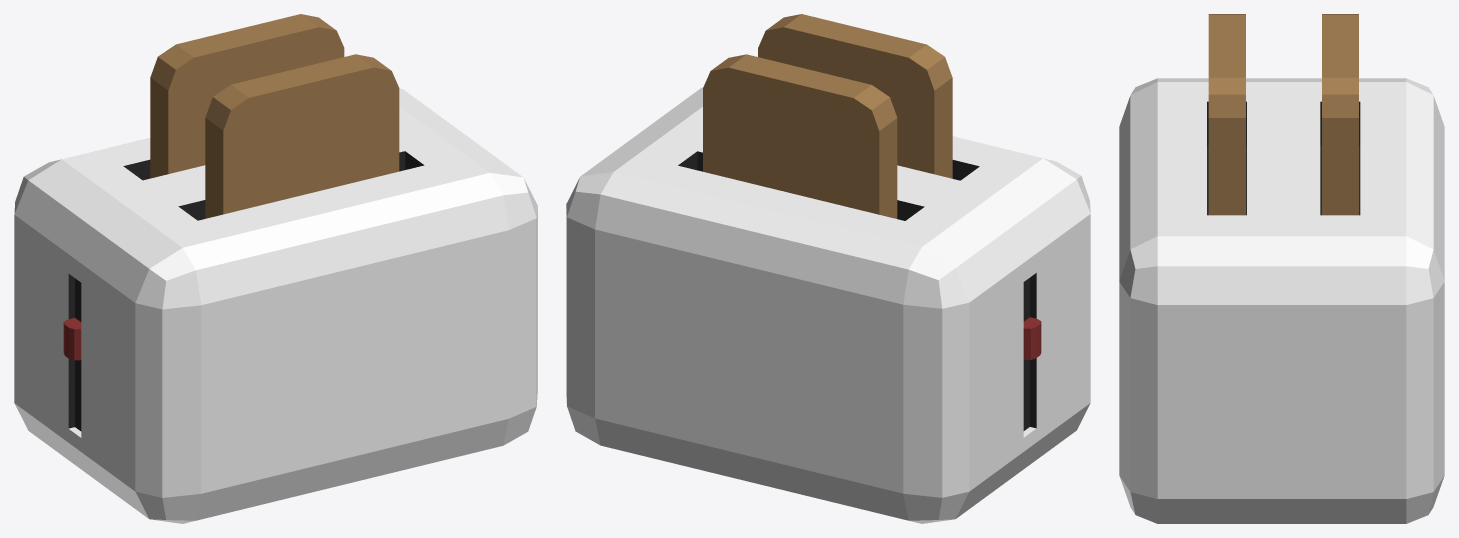
The model's file is Toast Maker.fbx.
3 renders of one model, left to right at view 1: azimuth 30°, elevation 25°; view 2: azimuth 150°, elevation 25°; view 3: azimuth 270°, elevation 25°, orthographic. The views are drawn at different scales.
Parts seen in each view (by area): view 1: Toast Maker; view 2: Toast Maker; view 3: Toast Maker.
Part boxes in pixels (bbox=[...]): Toast Maker: bbox=[14, 14, 537, 523]; Toast Maker: bbox=[566, 14, 1090, 523]; Toast Maker: bbox=[1119, 14, 1444, 523].
Bounding box in the file's own units: 0.323 × 0.2901 × 0.2157.
